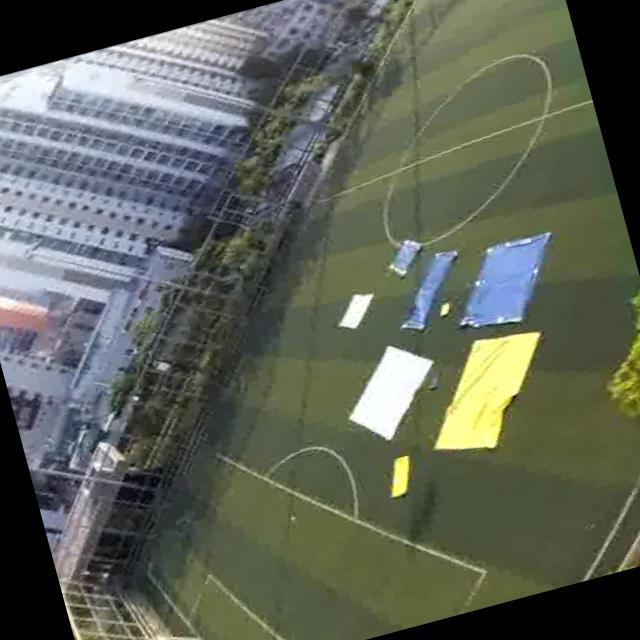danger: (469, 236, 550, 317), (380, 232, 429, 276), (400, 286, 442, 329)
safety: (346, 343, 429, 431), (328, 284, 380, 330)
warning: (445, 334, 537, 444), (382, 453, 419, 496)
